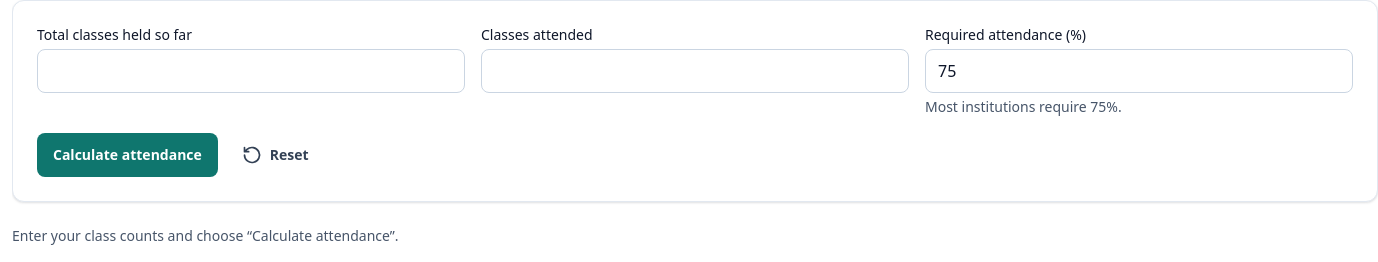
it: AttendanceCalculator › flags attended greater than total
In the field labelled "Total classes held so far": (251, 71) [37,49,465,93], type "10"
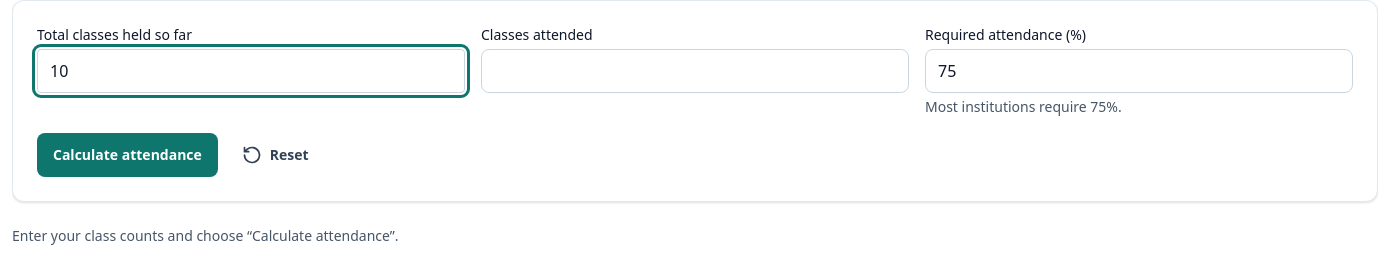
In the field labelled "Classes attended": (695, 71) [481,49,909,93], type "11"
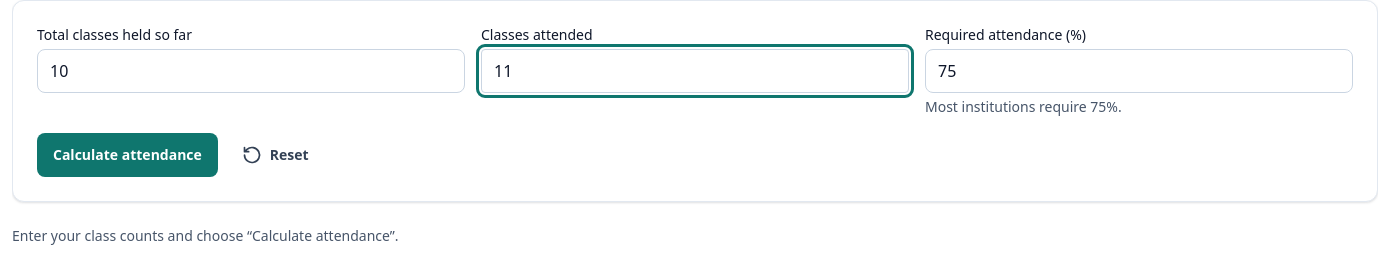
Click the button "Calculate attendance": (127, 155) [37,133,218,177]
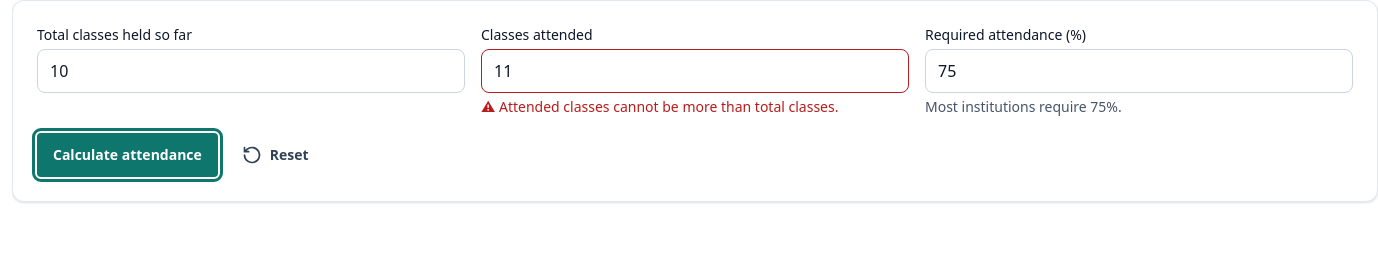
Now the text "⚠ Attended classes cannot be more than total classes." is shown, box [481,97,838,116]
